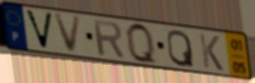K: (198, 32, 226, 73)
Q: (124, 20, 160, 67), (166, 28, 197, 69)
R: (91, 18, 127, 60)
V: (23, 8, 55, 51), (53, 12, 84, 54)
